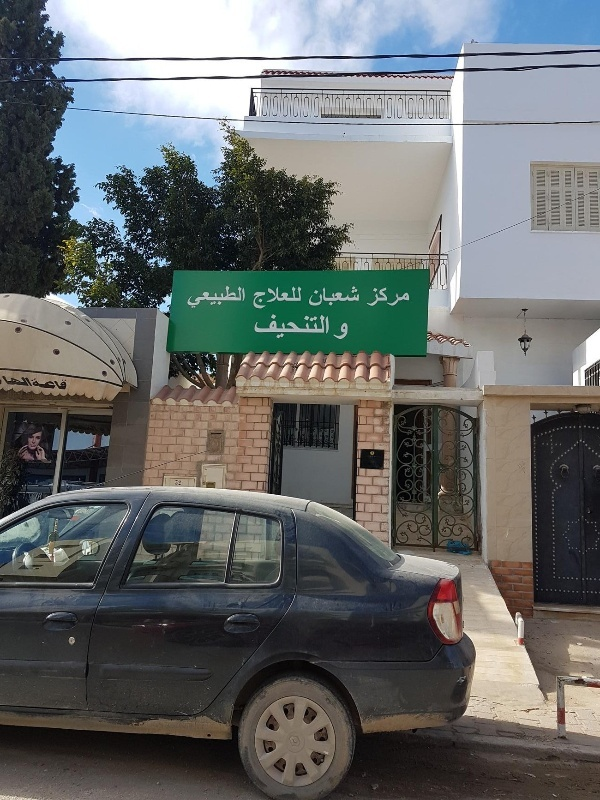text: (257, 314, 272, 341), (273, 314, 288, 341), (289, 314, 304, 341), (305, 314, 320, 341), (257, 286, 272, 310), (273, 286, 288, 310), (193, 286, 208, 309), (209, 286, 224, 309), (225, 286, 240, 309), (289, 286, 302, 310), (369, 287, 384, 307), (385, 287, 400, 307), (321, 286, 336, 306), (337, 286, 352, 306), (321, 314, 330, 341), (309, 286, 320, 306), (337, 323, 349, 340), (401, 287, 410, 307), (33, 378, 48, 390), (49, 378, 64, 390), (17, 376, 33, 387), (2, 376, 16, 387), (353, 286, 360, 306), (241, 286, 245, 309), (253, 286, 256, 310), (254, 314, 256, 341), (334, 323, 336, 340), (177, 479, 182, 485), (65, 378, 67, 390), (367, 287, 368, 307), (31, 378, 32, 390), (174, 479, 176, 485)
